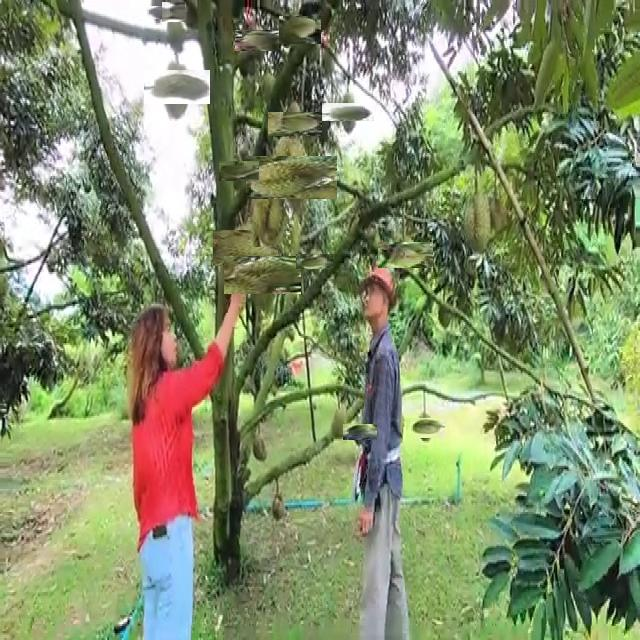durian: (258, 144, 325, 211), (233, 245, 292, 304), (253, 171, 288, 247), (220, 223, 272, 274), (152, 62, 203, 112), (461, 185, 492, 259), (384, 234, 426, 276), (482, 192, 511, 246), (275, 105, 315, 144), (331, 94, 368, 130), (282, 13, 318, 48), (163, 12, 190, 55), (240, 24, 274, 57), (224, 156, 254, 187), (410, 413, 440, 443), (330, 402, 350, 445), (301, 248, 328, 275), (347, 420, 372, 445), (268, 493, 288, 524), (251, 433, 270, 464), (436, 299, 453, 332), (260, 73, 276, 106), (162, 1, 184, 23), (149, 3, 168, 23)
